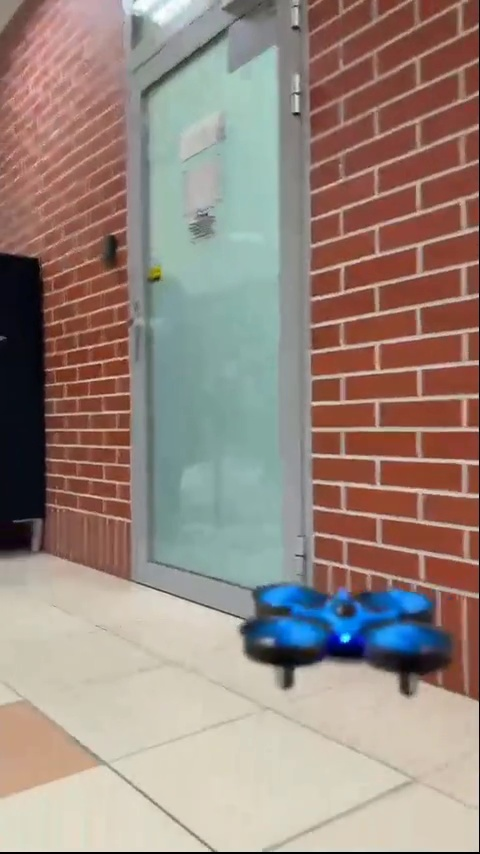drone: (242, 574, 469, 697)
